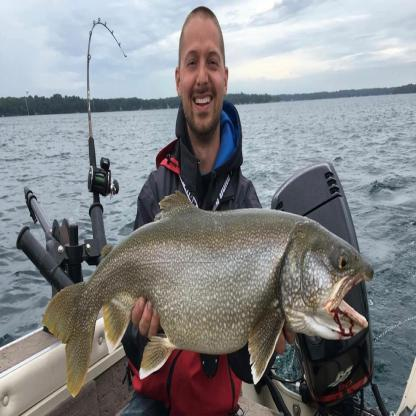fish: (44, 194, 379, 396)
